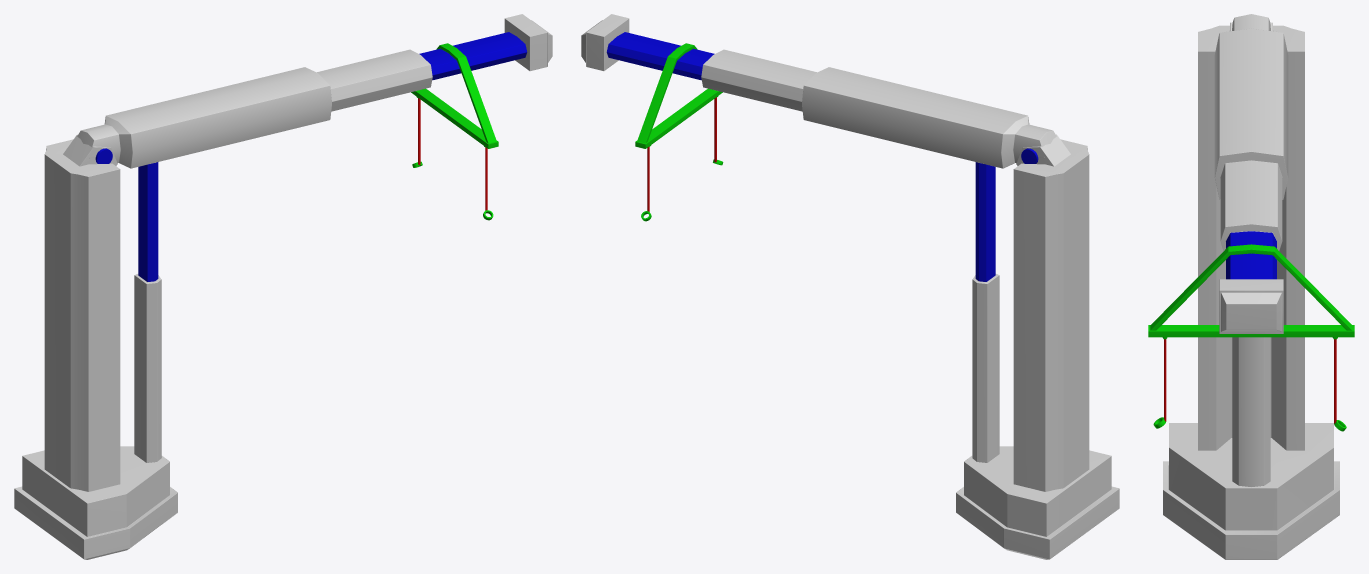
The model's file is SM_ExperimentHolder.fbx.
The picture shows the model from 3 angles, left to right: view 1: azimuth 30°, elevation 25°; view 2: azimuth 150°, elevation 25°; view 3: azimuth 270°, elevation 25°; orthographic projection. The views are drawn at different scales.
Parts seen in each view (by area): view 1: Crane; view 2: Crane; view 3: Crane, Cuff.
Part boxes in pixels (bbox=[...]): Crane: bbox=[14, 14, 552, 559]; Crane: bbox=[581, 14, 1119, 559]; Crane: bbox=[1148, 14, 1354, 559]; Cuff: bbox=[1153, 337, 1346, 431].
Size of the model in its own units: 306 by 87.43 by 236.
